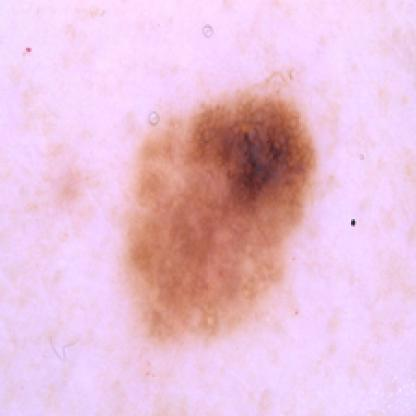benign: (150, 93, 314, 321)
